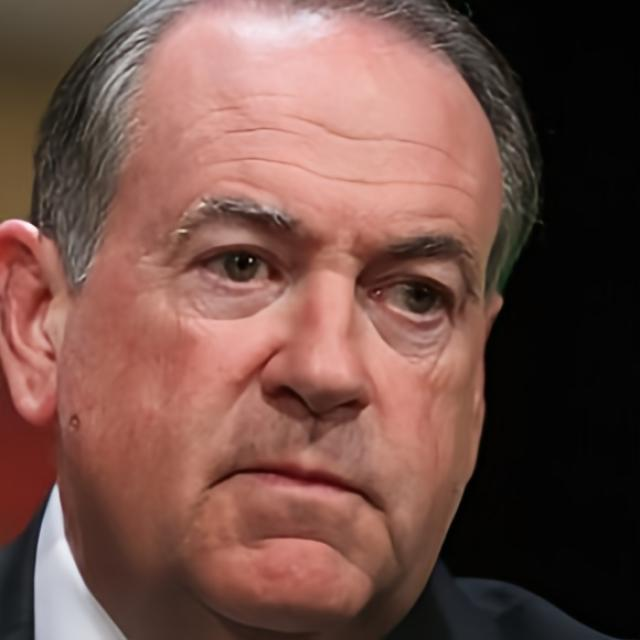anger: (82, 72, 484, 630)
